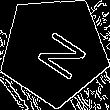N_NW: (23, 20, 85, 81)
